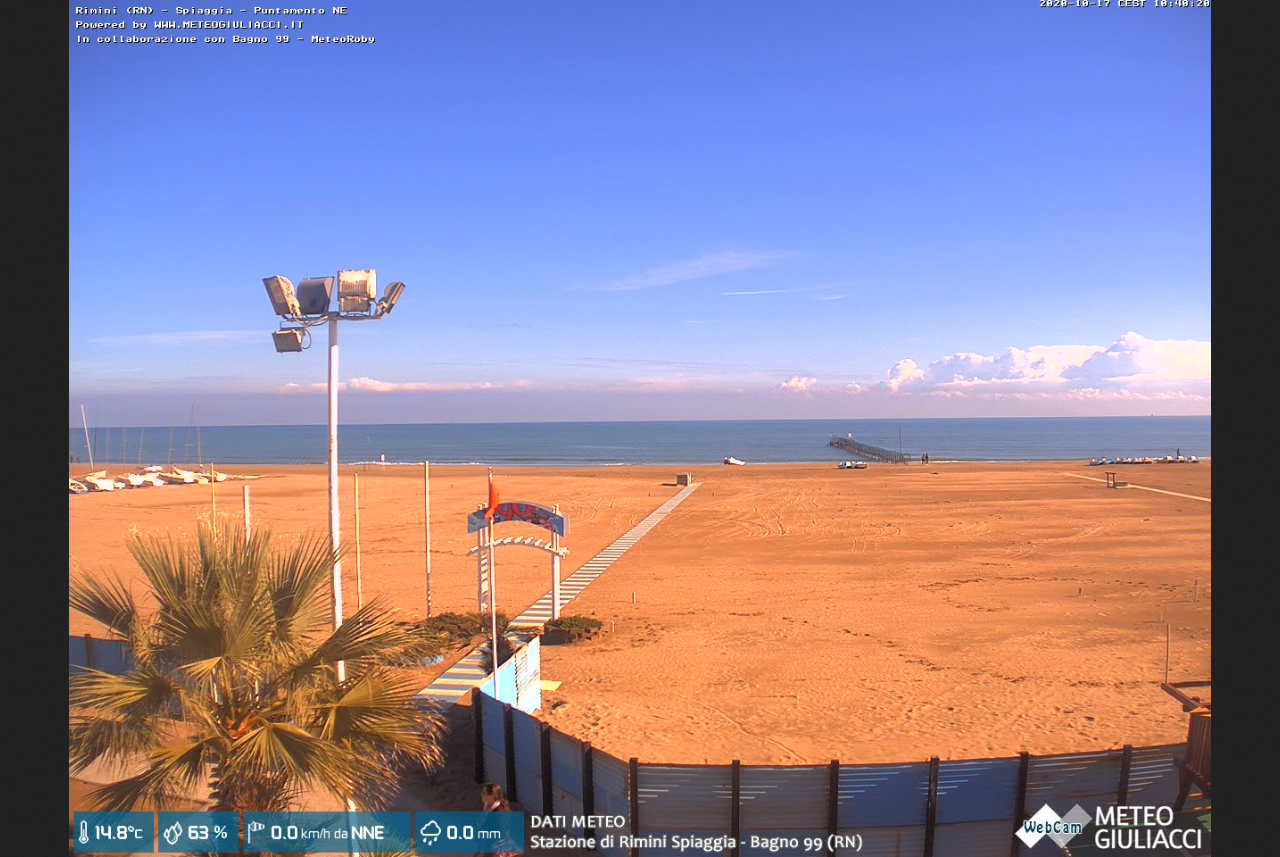no: (483, 474, 500, 522)
